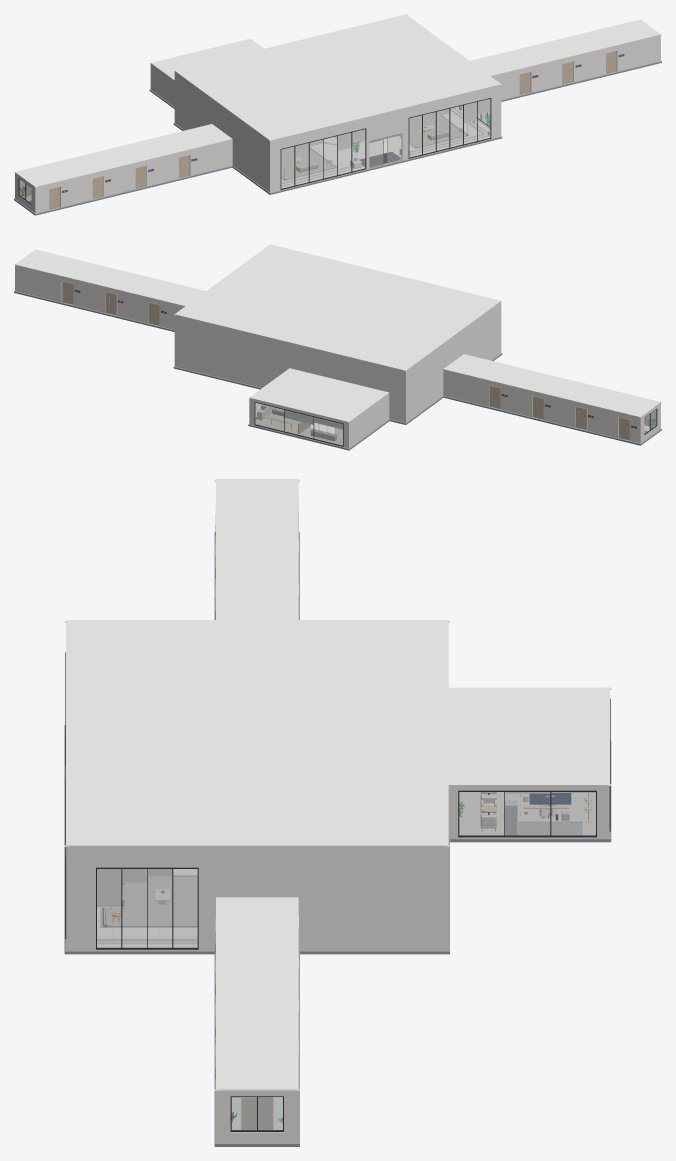
Rendered from main.glb.
3 views of the same model, one above another, from view 1: azimuth 30°, elevation 25°; view 2: azimuth 150°, elevation 25°; view 3: azimuth 270°, elevation 25° (orthographic). The views are drawn at different scales.
Visible parts, largest first — view 1: slab, slab.001, slab.002, glass, glass.001, Lobby_Floor, wall.012, wall.014, slab.008, wall.060, wall.038, wall.005 (+22 smaller); view 2: slab, wall.002, slab.001, slab.008, slab.002, wall.014, glass.010, wall.012, wall, wall.051, wall.029, wall.108 (+13 smaller); view 3: slab, slab.008, slab.002, wall.020, slab.001, glass.002, glass.011, wall.019, field.002, wall.015, powder_Floor, Lobby_Slab (+7 smaller).
Boxes of the visible parts, left/top/right/bottom form: slab: left=175, top=14, right=501, bottom=140; slab.001: left=15, top=124, right=232, bottom=187; slab.002: left=470, top=19, right=660, bottom=76; glass: left=281, top=129, right=365, bottom=188; glass.001: left=409, top=99, right=490, bottom=157; Lobby_Floor: left=281, top=106, right=490, bottom=188; wall.012: left=232, top=114, right=269, bottom=191; wall.014: left=175, top=72, right=212, bottom=130; slab.008: left=151, top=38, right=263, bottom=80; wall.060: left=617, top=35, right=660, bottom=71; wall.038: left=190, top=139, right=232, bottom=175; wall.005: left=280, top=118, right=365, bottom=148; slab: left=174, top=244, right=500, bottom=370; wall.002: left=174, top=315, right=362, bottom=387; slab.001: left=443, top=354, right=660, bottom=417; slab.008: left=249, top=368, right=389, bottom=421; slab.002: left=15, top=249, right=205, bottom=306; wall.014: left=406, top=344, right=443, bottom=421; glass.010: left=255, top=403, right=342, bottom=445; wall.012: left=463, top=302, right=500, bottom=360; wall: left=377, top=364, right=406, bottom=422; wall.051: left=15, top=265, right=61, bottom=301; wall.029: left=443, top=370, right=488, bottom=406; wall.108: left=349, top=393, right=389, bottom=447; slab: left=66, top=620, right=448, bottom=846; slab.008: left=448, top=687, right=609, bottom=786; slab.002: left=216, top=897, right=298, bottom=1090; wall.020: left=297, top=847, right=445, bottom=950; slab.001: left=216, top=479, right=298, bottom=619; glass.002: left=97, top=869, right=197, bottom=947; glass.011: left=459, top=792, right=595, bottom=835; wall.019: left=217, top=847, right=297, bottom=897; field.002: left=104, top=876, right=197, bottom=925; wall.015: left=69, top=847, right=95, bottom=950; powder_Floor: left=459, top=792, right=595, bottom=835; Lobby_Slab: left=64, top=725, right=449, bottom=954.
Bounding box in the file's own units: 76.3 × 6.3 × 28.8.
